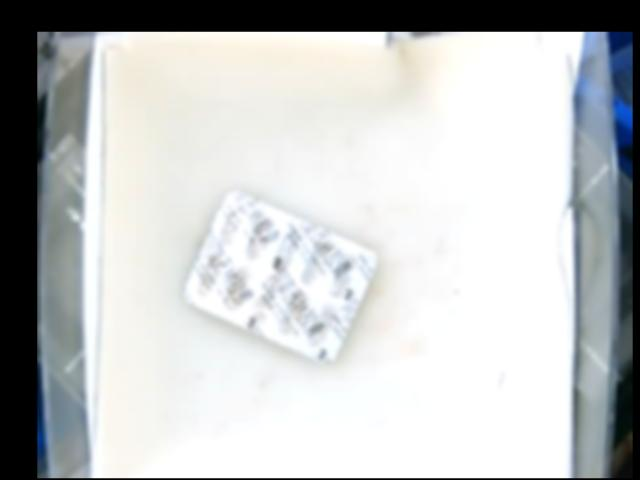Medicine: (185, 189, 376, 362)
